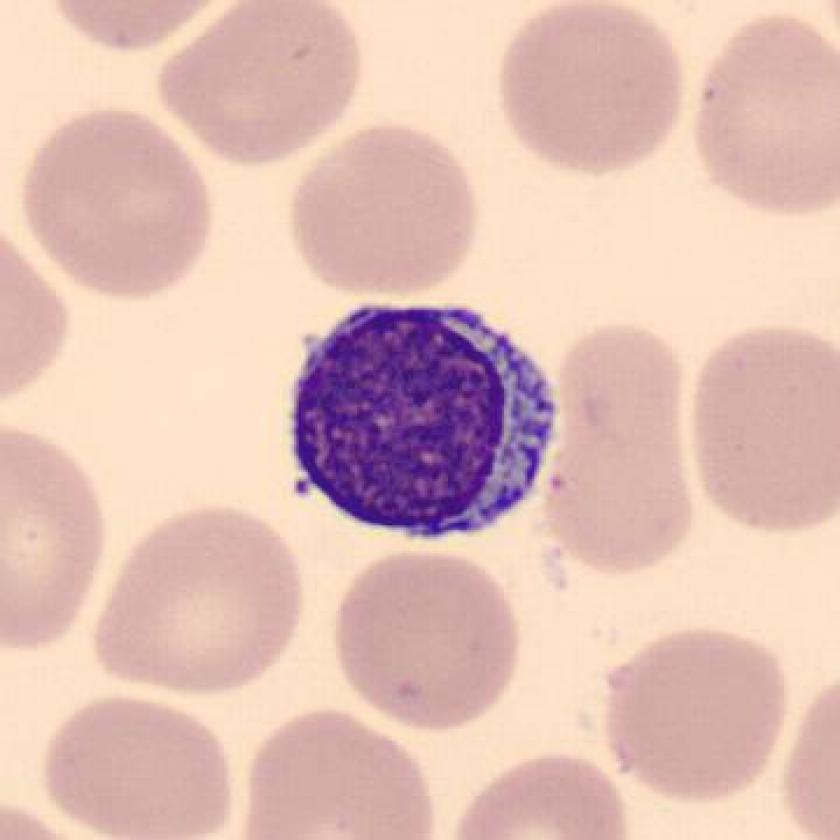lymphocyte: (272, 293, 566, 557)
